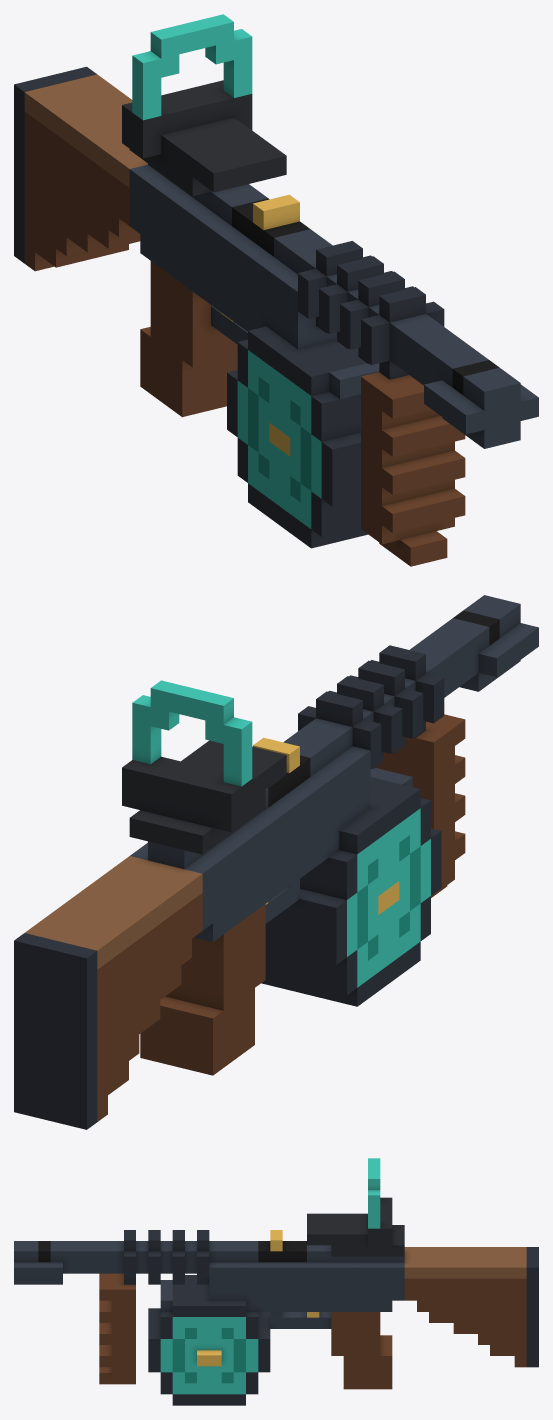
File: tommy.glb
The picture shows the model from 3 angles, top to bottom: view 1: azimuth 30°, elevation 25°; view 2: azimuth 150°, elevation 25°; view 3: azimuth 270°, elevation 25°; orthographic projection. The views are drawn at different scales.
Parts seen in each view (by area): view 1: tommy_body; view 2: tommy_body; view 3: tommy_body.
Boxes of the visible parts, x1,y1,x2,y2 form: tommy_body: (14, 14, 538, 566); tommy_body: (14, 595, 538, 1129); tommy_body: (14, 1158, 538, 1405).
Bounding box in the file's own units: 0.2734 × 0.7812 × 1.68.
Materials: 1 (1 with a texture image).
